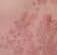plaque psoriasis: (0, 10, 37, 55), (38, 10, 57, 55)
